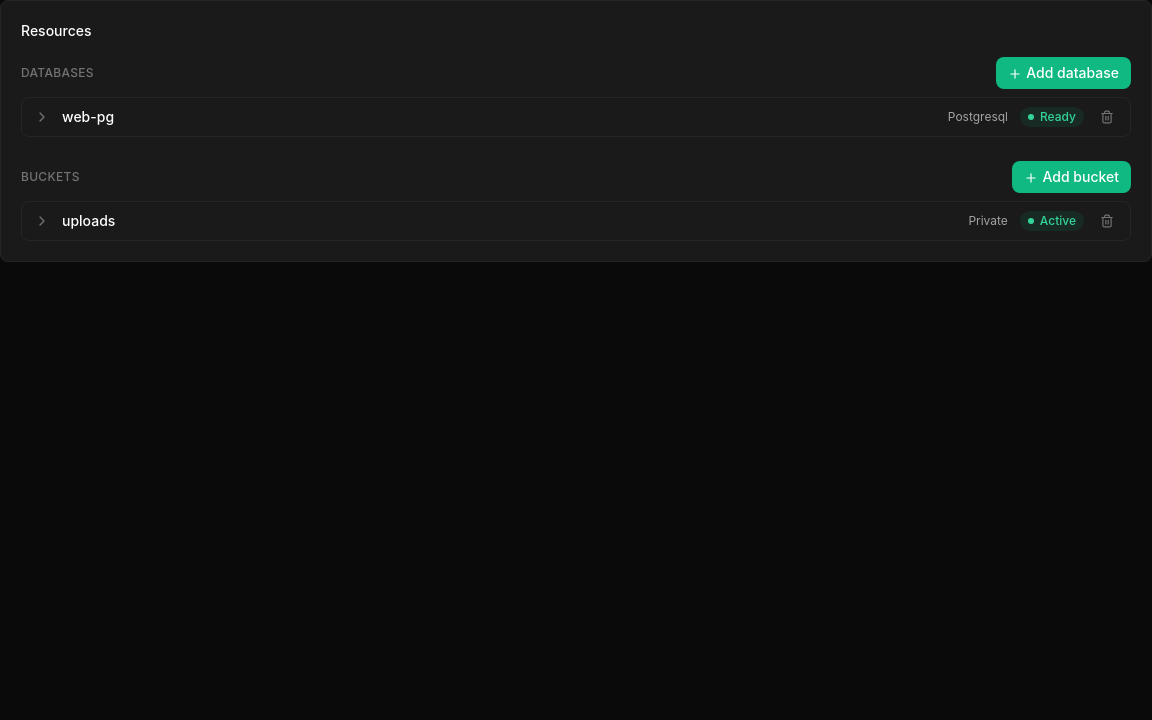
Scenario: ResourcesCard › shows an error, not the empty state, when backups fail
Expected: the text "web-pg" is shown, [62, 108, 114, 125]
Click the button named "Expand web-pg": click(42, 117) [34, 109, 50, 125]
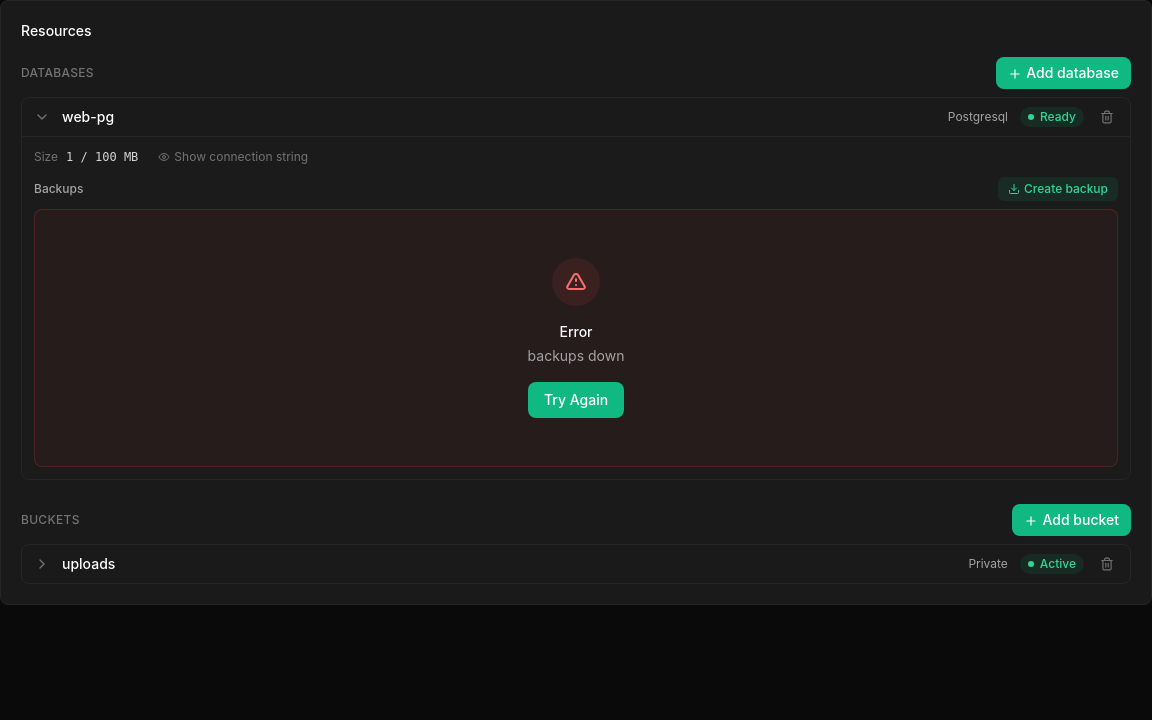
Now the text "backups down" is shown, box [528, 346, 624, 366]
